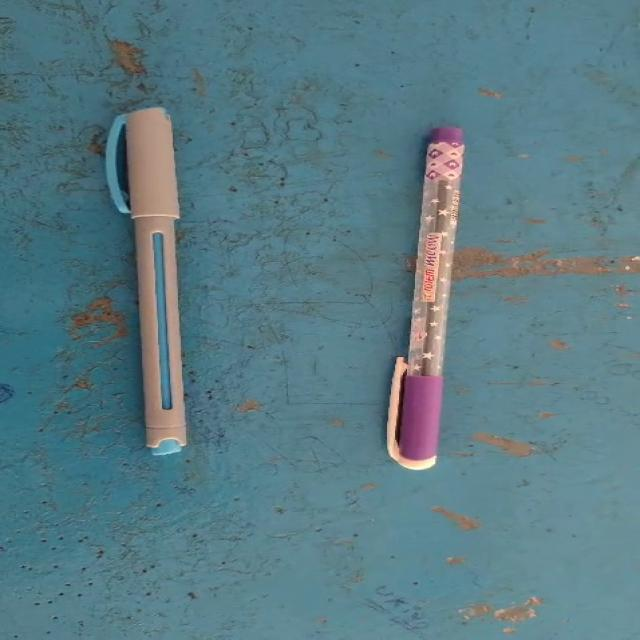pen: (36, 76, 245, 478), (345, 82, 518, 488)
